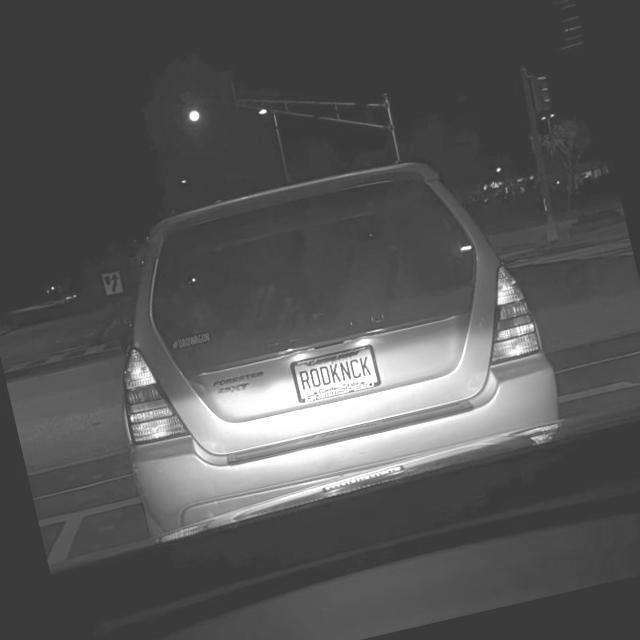LicensePlate: (288, 344, 381, 403)
